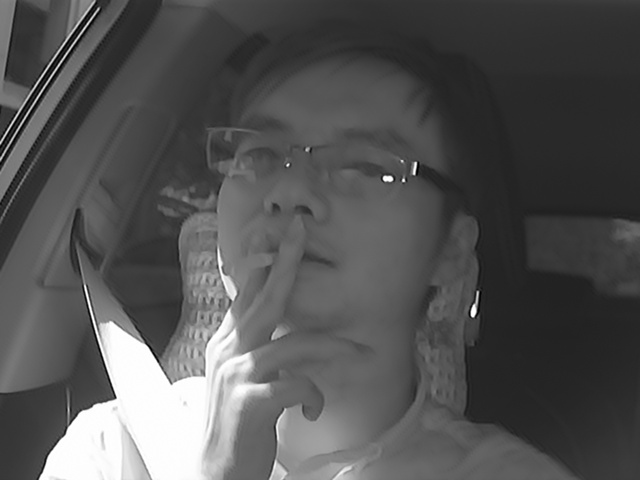hand: (206, 224, 371, 439)
